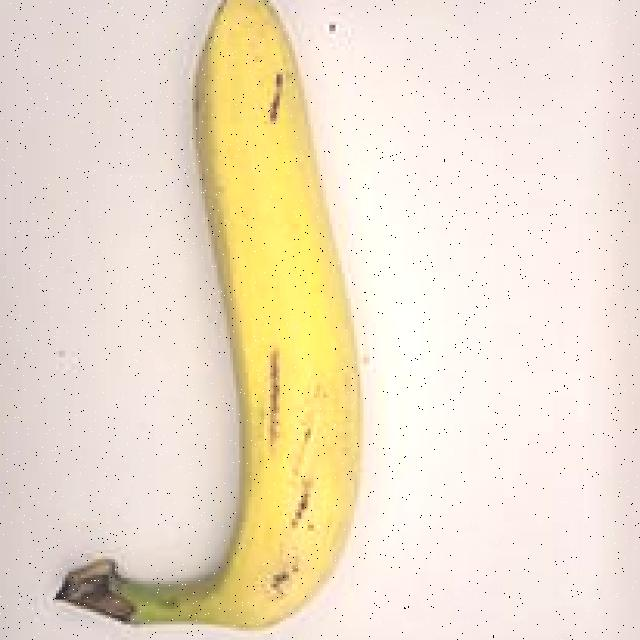Ripe: (50, 0, 382, 640)
